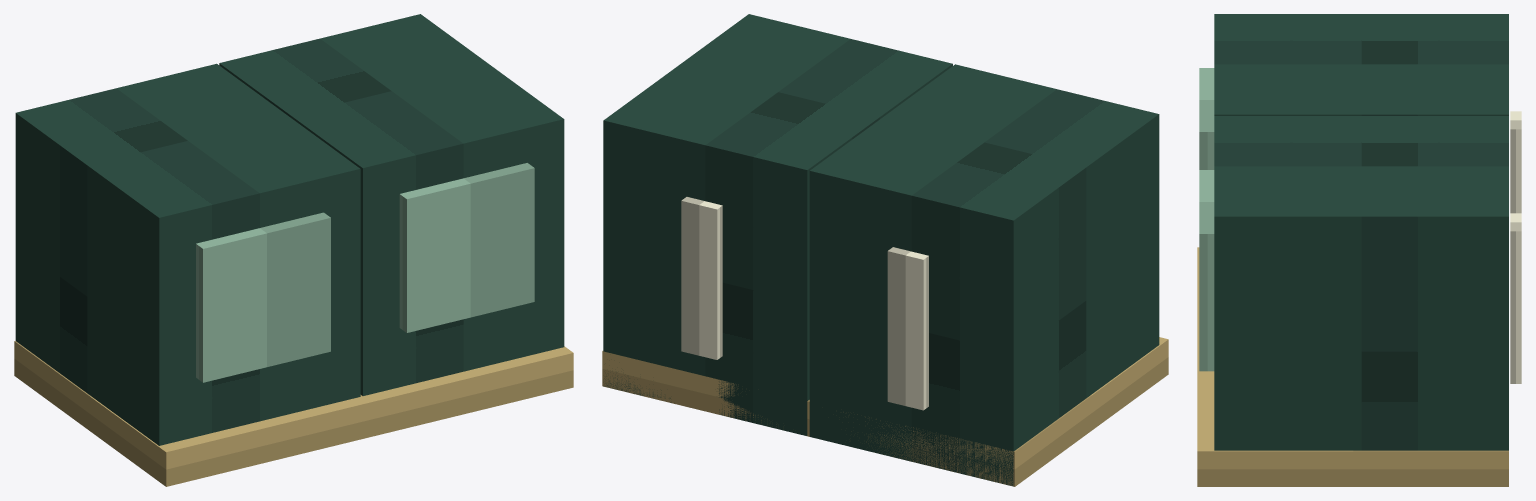
File: zhuji_yuheng_yizhuang_boots.obj
3 renders of one model, left to right at view 1: azimuth 30°, elevation 25°; view 2: azimuth 150°, elevation 25°; view 3: azimuth 270°, elevation 25°, orthographic. The views are drawn at different scales.
Parts seen in each view (by area): view 1: yuheng_boot_-1, yuheng_boot_1, yuheng_boot_seal_1, yuheng_boot_seal_-1, yuheng_sole_-1, yuheng_sole_1; view 2: yuheng_boot_-1, yuheng_boot_1, yuheng_sole_-1, yuheng_heel_-1, yuheng_heel_1, yuheng_sole_1; view 3: yuheng_boot_1, yuheng_boot_-1, yuheng_sole_1, yuheng_boot_seal_1, yuheng_heel_1, yuheng_boot_seal_-1, yuheng_heel_-1.
Boxes of the visible parts, x1,y1,x2,y2 form: yuheng_boot_-1: (15,63,360,445); yuheng_boot_1: (219,14,564,395); yuheng_boot_seal_1: (399,163,534,332); yuheng_boot_seal_-1: (196,212,330,382); yuheng_sole_-1: (14,341,369,486); yuheng_sole_1: (360,346,573,436); yuheng_boot_-1: (809,64,1159,486); yuheng_boot_1: (603,14,952,435); yuheng_sole_-1: (808,337,1168,486); yuheng_heel_-1: (887,247,928,410); yuheng_heel_1: (681,197,722,359); yuheng_sole_1: (602,351,809,436); yuheng_boot_1: (1214,116,1508,450); yuheng_boot_-1: (1214,14,1508,115); yuheng_sole_1: (1197,349,1508,486); yuheng_boot_seal_1: (1199,170,1214,371); yuheng_heel_1: (1510,213,1521,383); yuheng_boot_seal_-1: (1199,68,1214,169); yuheng_heel_-1: (1510,111,1521,213).
Bounding box in the file's own units: 0.5375 × 0.3313 × 0.3609.
